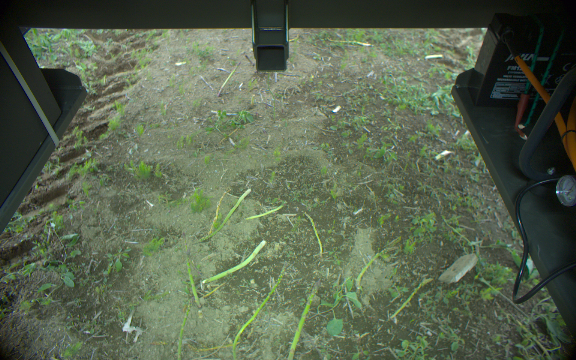aspa: (229, 259, 288, 355), (201, 239, 264, 287), (289, 278, 324, 360), (208, 185, 251, 240), (174, 294, 197, 360), (181, 248, 201, 312), (217, 60, 242, 101)
